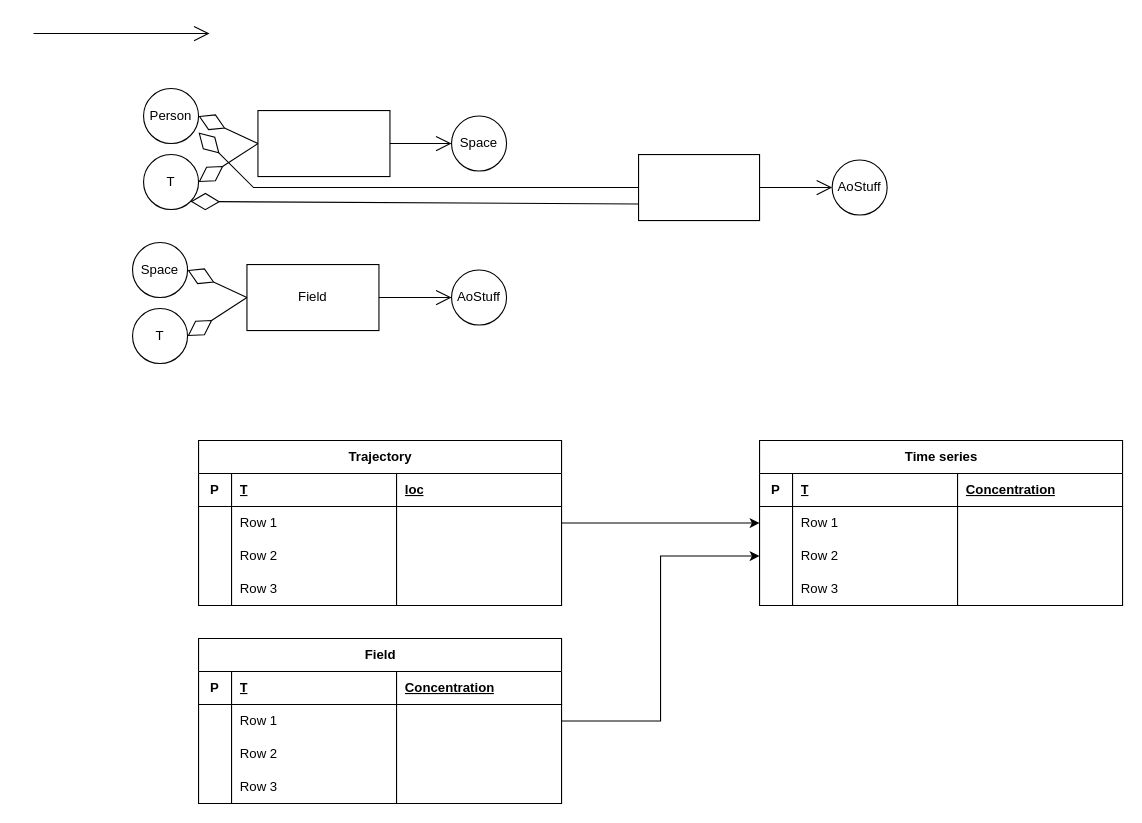
This 1142x823 diagram has some shape labels left out. The shapes that lost their labels are listed below. From the top down, each one's centre as x and y in pixels, then its label:
At (323,143): "Traject".
At (698,187): "Timeseries".
